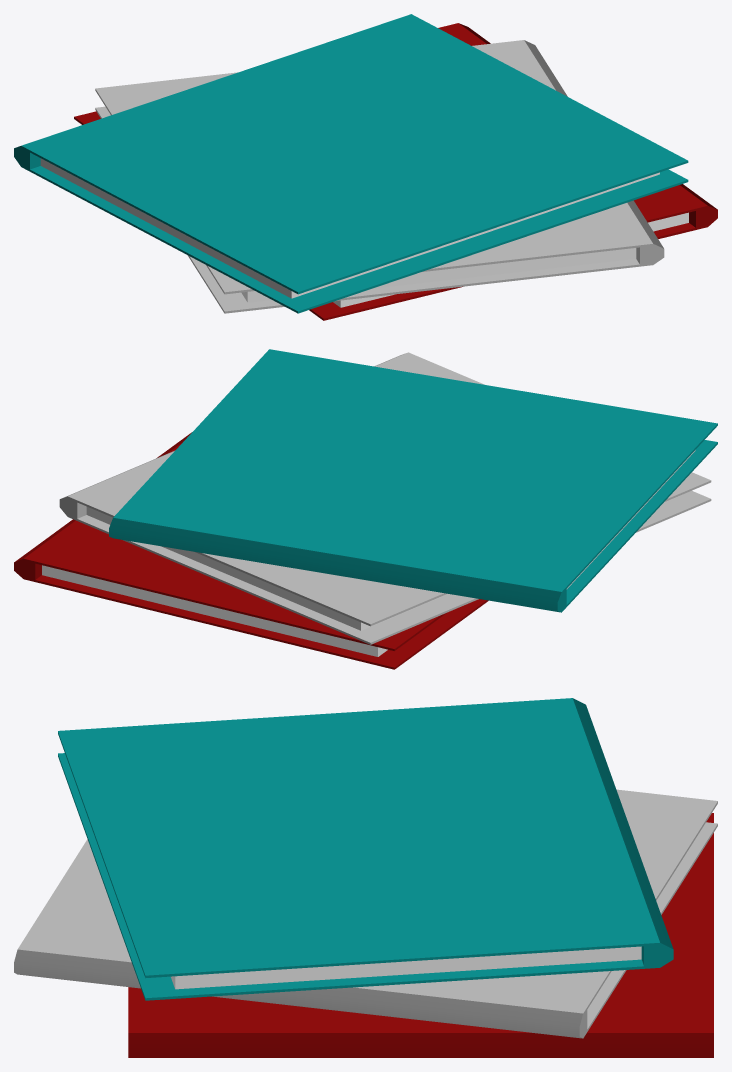
File: Magazines SHC QuickOffice.fbx
3 renders of one model, top to bottom at view 1: azimuth 30°, elevation 25°; view 2: azimuth 150°, elevation 25°; view 3: azimuth 270°, elevation 25°, orthographic. The views are drawn at different scales.
Visible parts, largest first — view 1: Component_125_1, Component_129_1, Component_122_1; view 2: Component_125_1, Component_122_1, Component_129_1; view 3: Component_125_1, Component_122_1, Component_129_1.
Part boxes in pixels (bbox=[...]): Component_125_1: bbox=[14, 14, 688, 313]; Component_129_1: bbox=[95, 40, 664, 313]; Component_122_1: bbox=[74, 23, 717, 320]; Component_125_1: bbox=[109, 349, 717, 612]; Component_122_1: bbox=[14, 432, 488, 669]; Component_129_1: bbox=[59, 352, 711, 644]; Component_125_1: bbox=[58, 698, 673, 1000]; Component_122_1: bbox=[128, 813, 713, 1057]; Component_129_1: bbox=[14, 789, 717, 1038].
Size of what is drawn, in the model's own units: 0.4792 by 0.0566 by 0.4803.
